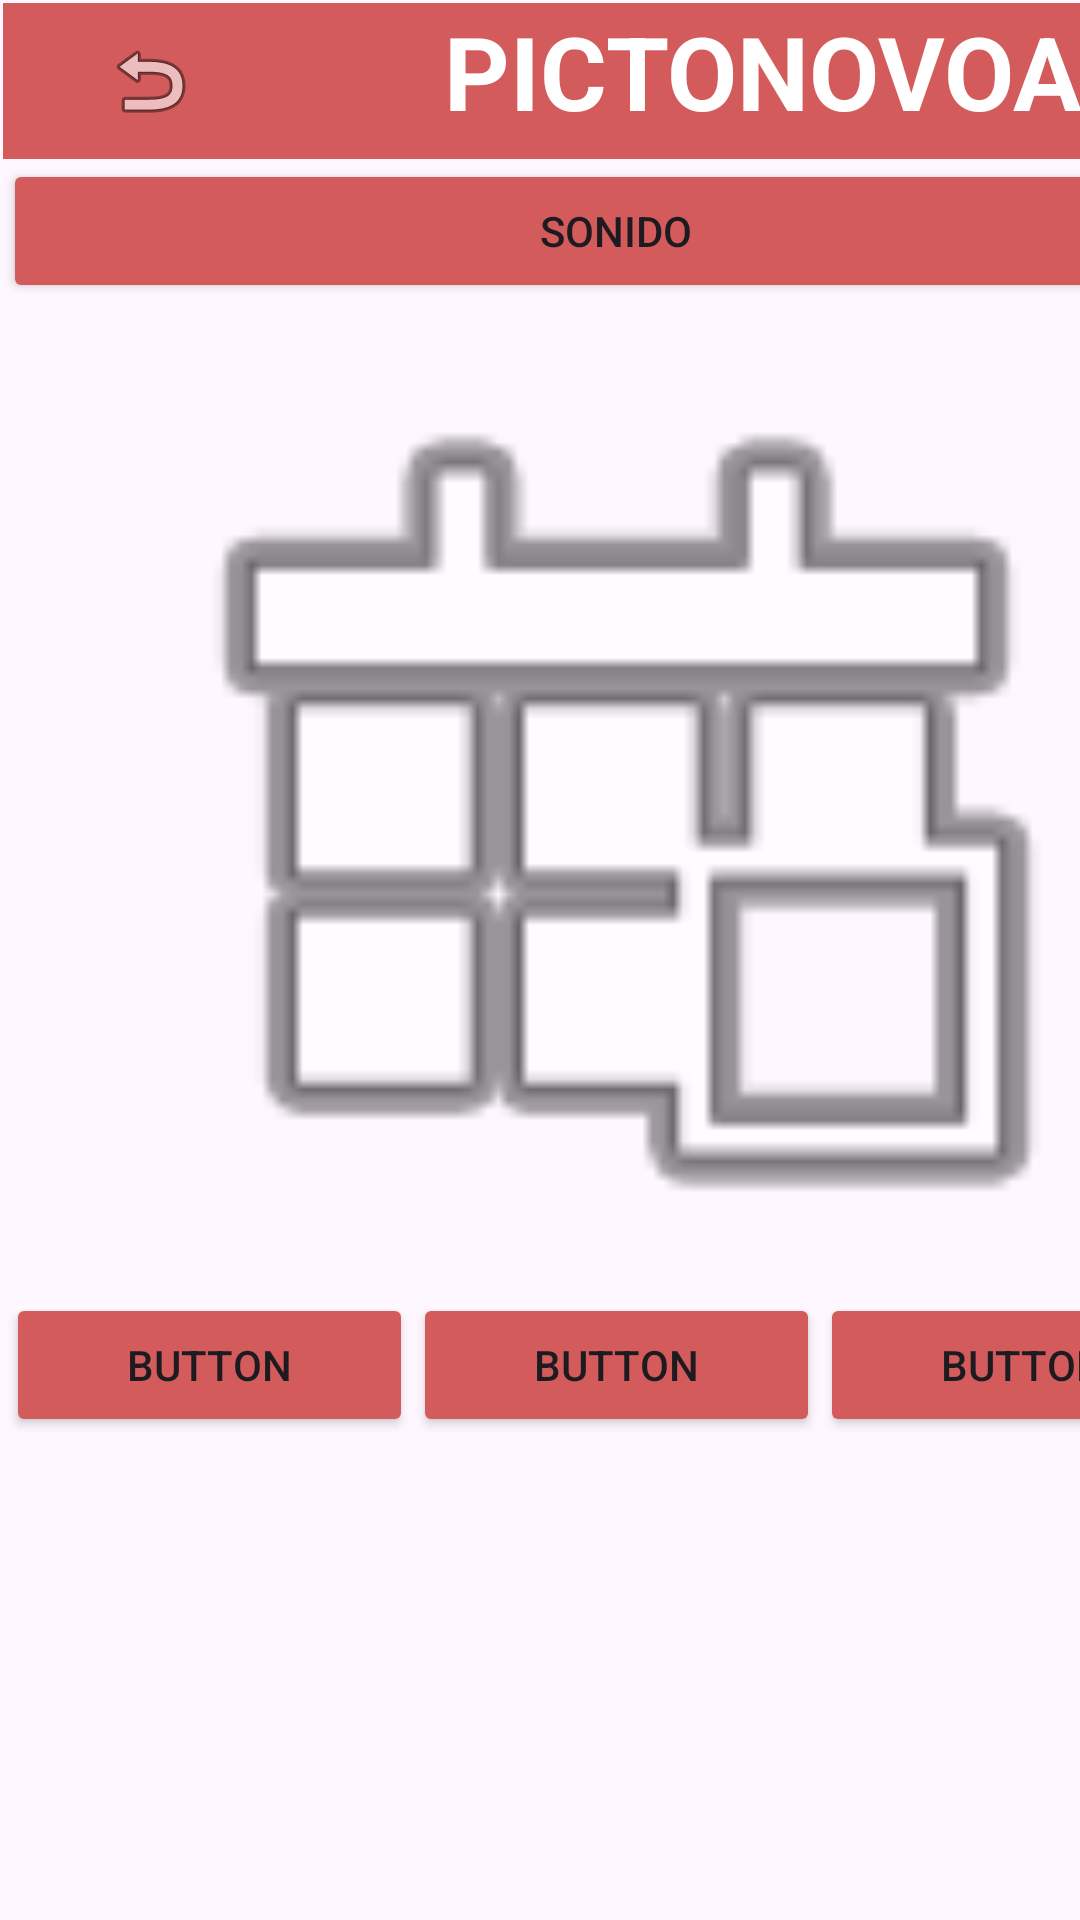

Named icons in this screenshot (1080 x 1920) and their bounding boxes, (x1, y1, x2, y2):
boton atras: (3, 3, 297, 159)
